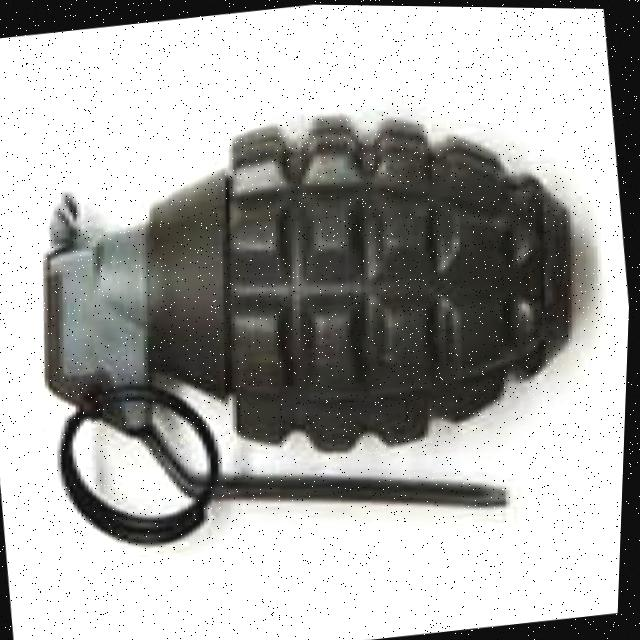grenade: (0, 62, 622, 592)
